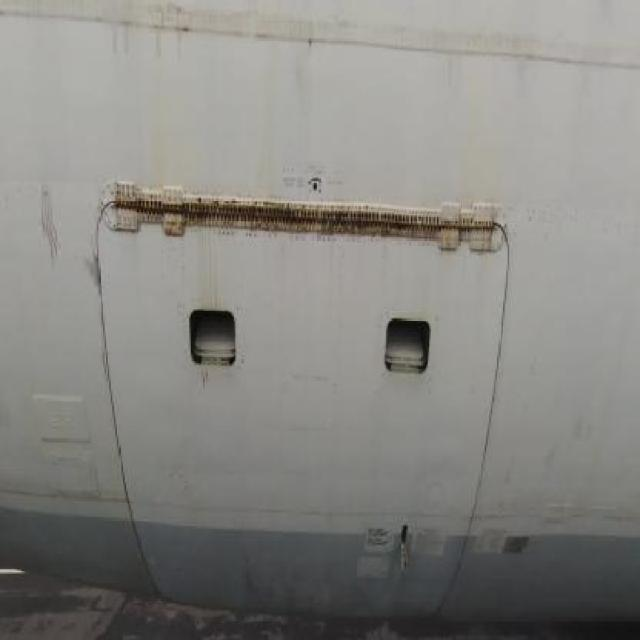Rust: (105, 180, 513, 258), (34, 179, 64, 273)
Scartch: (83, 239, 103, 313)
